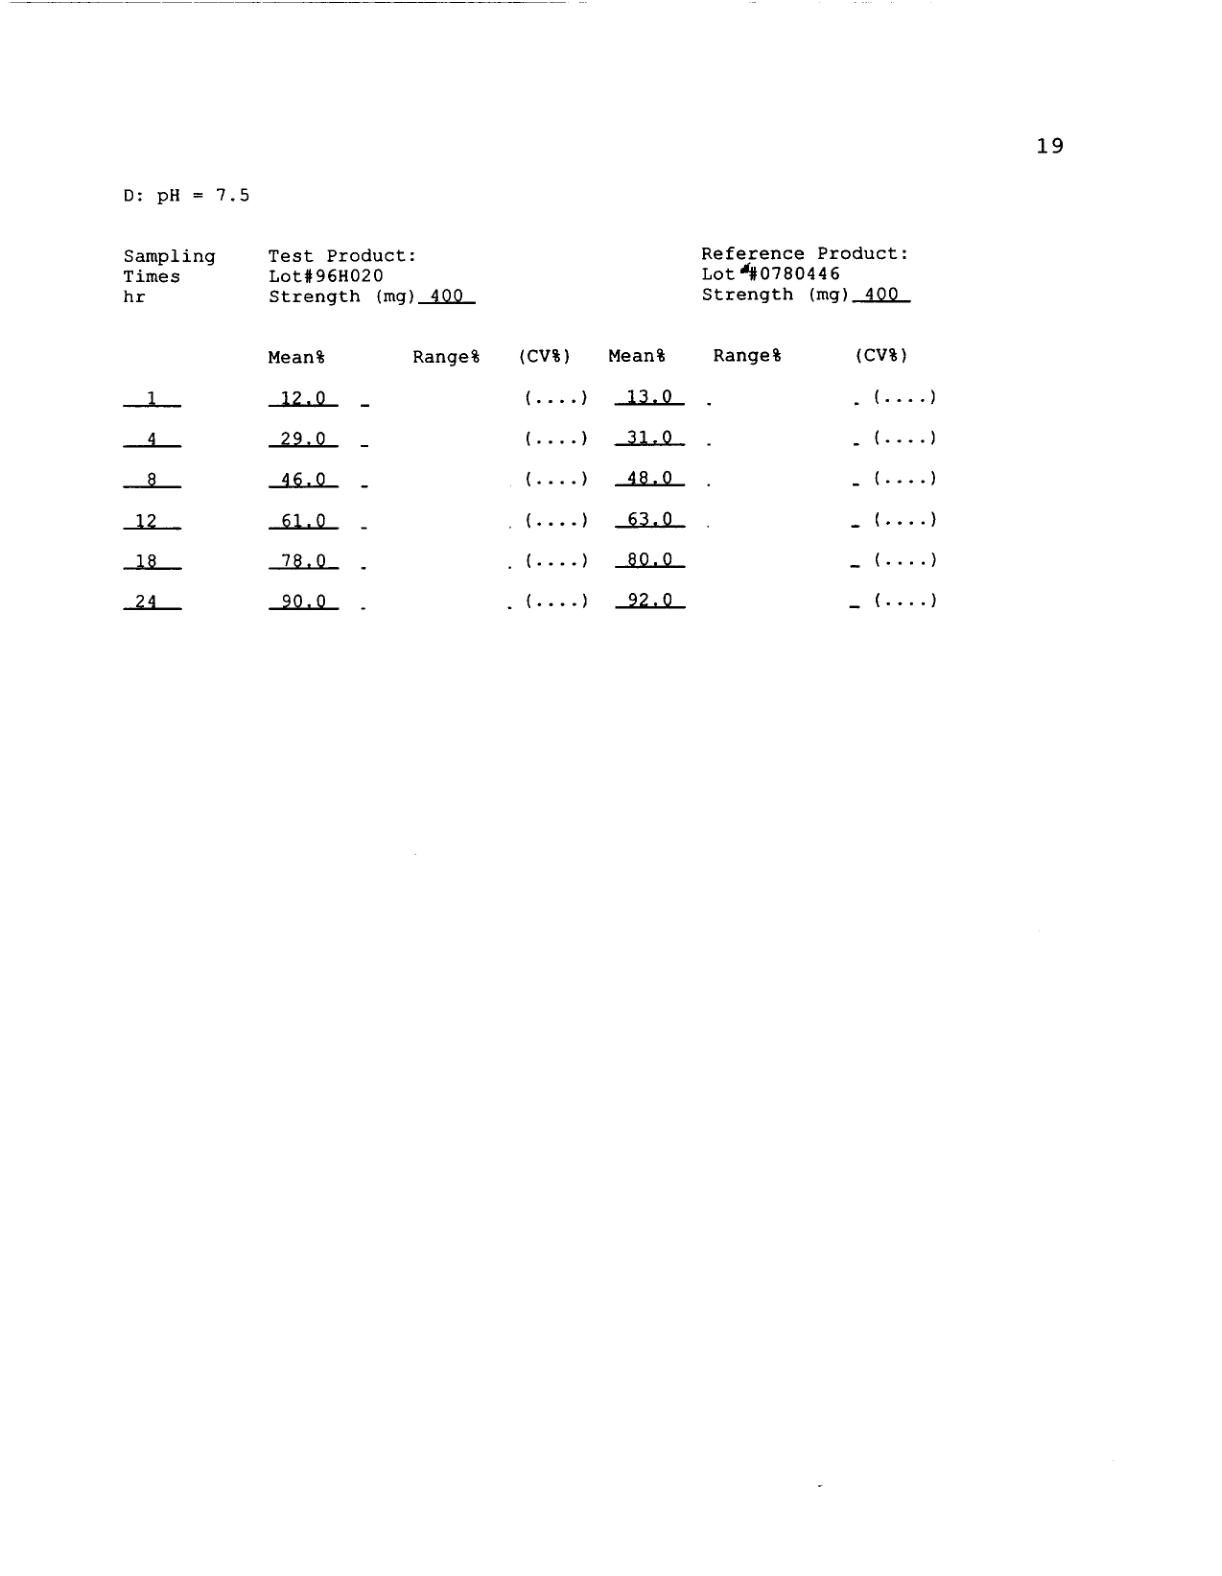nolines: (122, 246, 940, 622)
